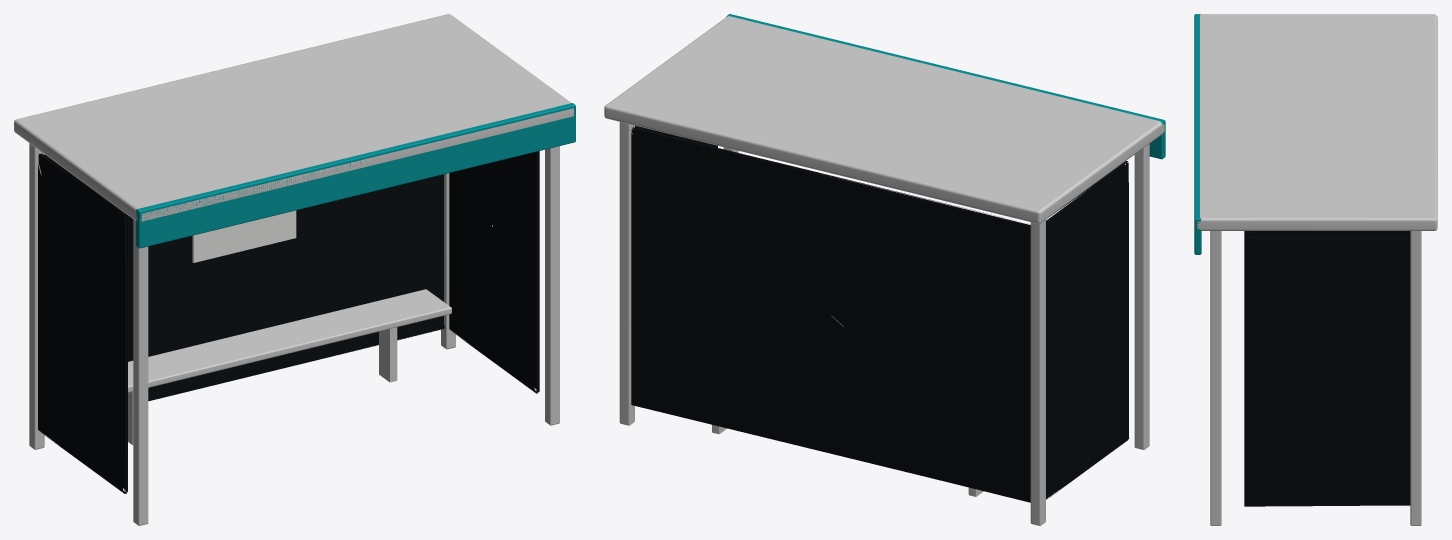
The model's file is water.ferry.shelter.glb.
The picture shows the model from 3 angles, left to right: view 1: azimuth 30°, elevation 25°; view 2: azimuth 150°, elevation 25°; view 3: azimuth 270°, elevation 25°; orthographic projection. The views are drawn at different scales.
Visible parts, largest first — view 1: main__galv_ccc, main__glass_dark, main__paint_099, main__paint_eed; view 2: main__glass_dark, main__galv_ccc, main__paint_099; view 3: main__galv_ccc, main__glass_dark, main__paint_099.
Part boxes in pixels (x1=…): main__galv_ccc: x1=14, y1=14, x2=573, y2=525; main__glass_dark: x1=38, y1=151, x2=539, y2=493; main__paint_099: x1=136, y1=103, x2=575, y2=248; main__paint_eed: x1=192, y1=210, x2=296, y2=262; main__glass_dark: x1=631, y1=125, x2=1129, y2=502; main__galv_ccc: x1=604, y1=16, x2=1164, y2=525; main__paint_099: x1=726, y1=14, x2=1165, y2=159; main__galv_ccc: x1=1197, y1=14, x2=1437, y2=525; main__glass_dark: x1=1244, y1=231, x2=1410, y2=506; main__paint_099: x1=1194, y1=14, x2=1201, y2=254.
Bounding box in the file's own units: 3.4 × 2.4 × 1.7.
